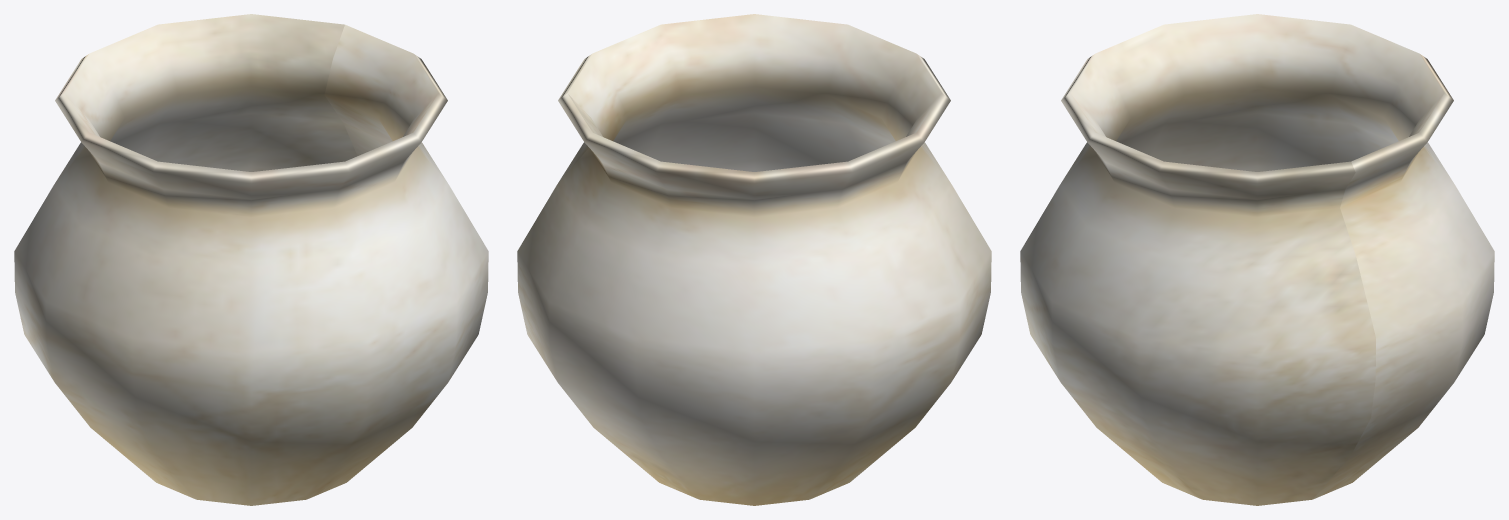
File: jug_004.fbx
3 views of the same model, side by side, from view 1: azimuth 30°, elevation 25°; view 2: azimuth 150°, elevation 25°; view 3: azimuth 270°, elevation 25° (orthographic).
Visible parts, largest first — view 1: jug_004; view 2: jug_004; view 3: jug_004.
Part boxes in pixels (box(x1,y1,x2,y2)): jug_004: box(14, 14, 488, 505); jug_004: box(517, 14, 991, 505); jug_004: box(1020, 14, 1494, 505).
Size of the model in its own units: 22.53 by 19.21 by 22.53.
